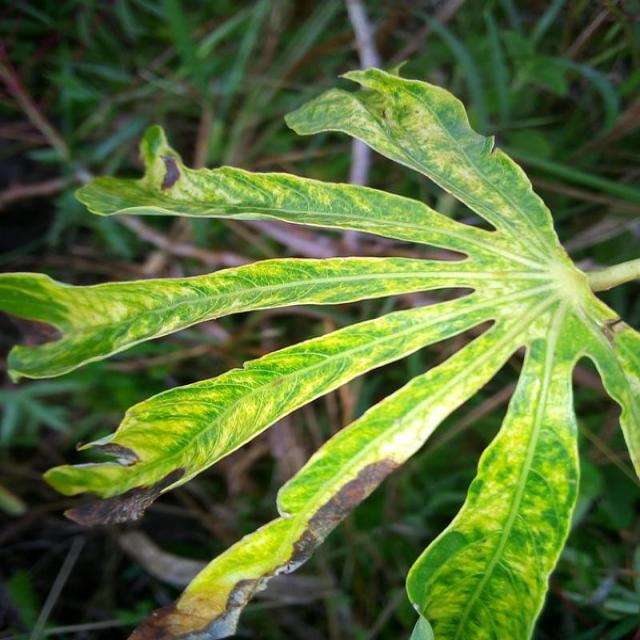cassava leaf: (1, 63, 638, 638)
